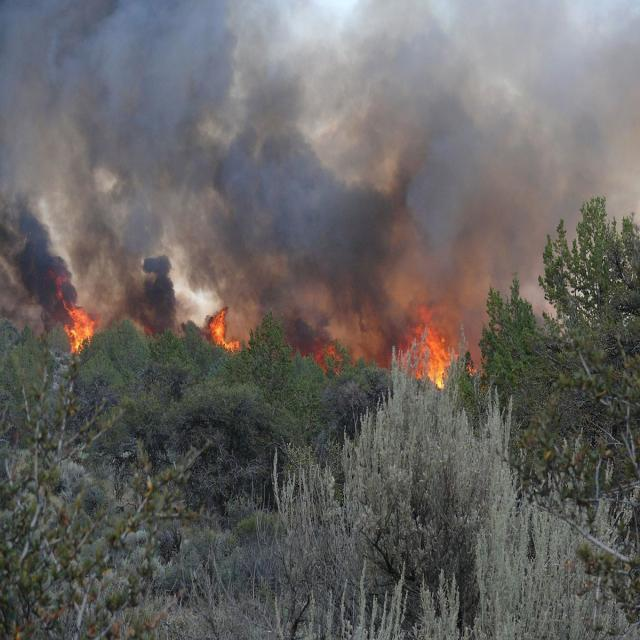Fire: (396, 301, 486, 402), (51, 278, 102, 358), (202, 299, 247, 361)
Smoke: (0, 0, 498, 377), (0, 181, 85, 327)
